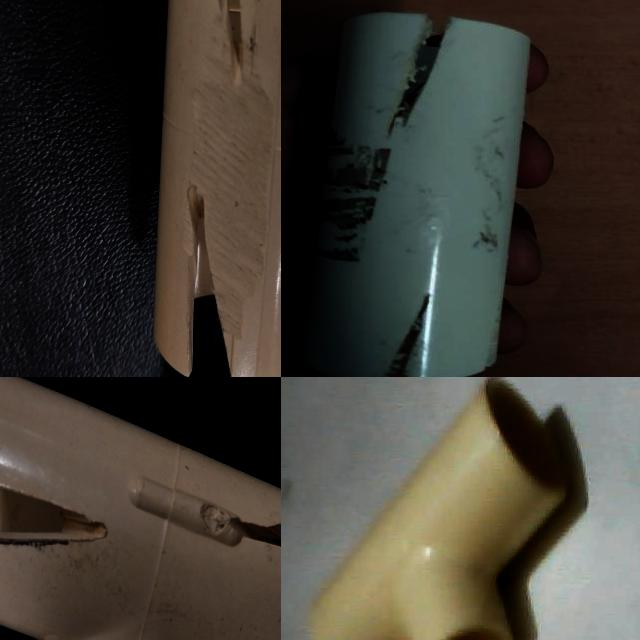Defective: (394, 10, 474, 128), (95, 445, 134, 622), (372, 267, 432, 377), (0, 194, 118, 238), (205, 226, 281, 272), (178, 0, 215, 93)
T Joint: (0, 0, 281, 316), (309, 377, 569, 640), (51, 438, 257, 640), (179, 0, 281, 317)
